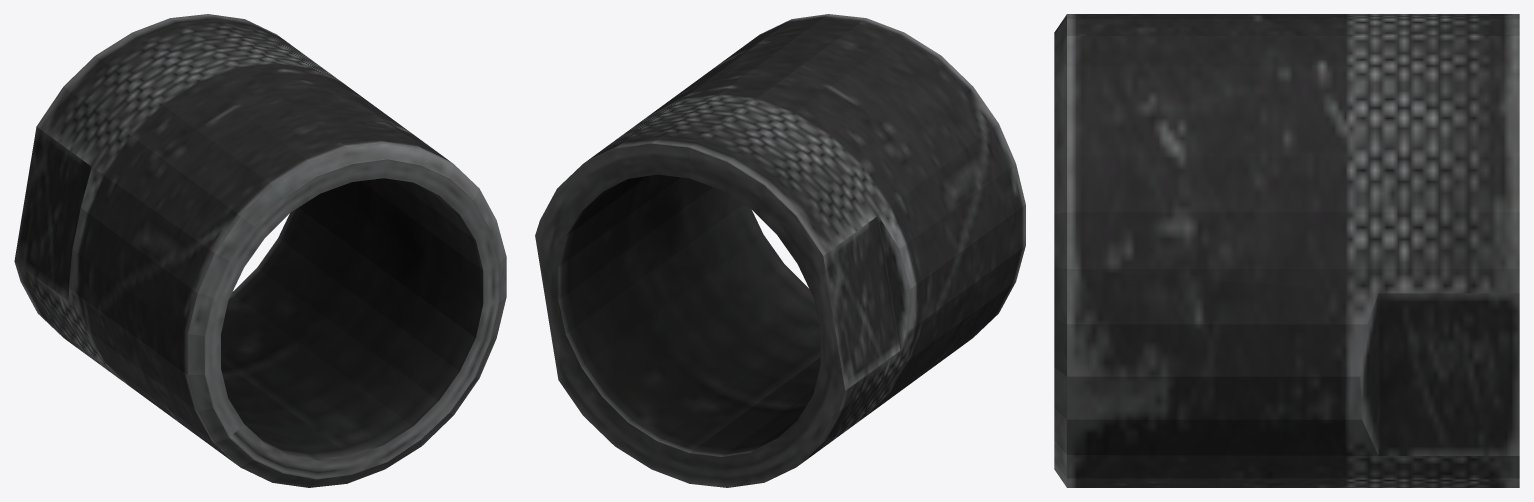
3 views of the same model, side by side, from view 1: azimuth 30°, elevation 25°; view 2: azimuth 150°, elevation 25°; view 3: azimuth 270°, elevation 25° (orthographic). The views are drawn at different scales.
Visible parts, largest first — view 1: TW_576167ab2459773cad038c43_PZ_Import; view 2: TW_576167ab2459773cad038c43_PZ_Import; view 3: TW_576167ab2459773cad038c43_PZ_Import.
Part boxes in pixels (left/top/right/bottom): TW_576167ab2459773cad038c43_PZ_Import: left=14, top=14, right=506, bottom=487; TW_576167ab2459773cad038c43_PZ_Import: left=535, top=14, right=1025, bottom=487; TW_576167ab2459773cad038c43_PZ_Import: left=1054, top=14, right=1519, bottom=487.
Bounding box in the file's own units: 0.015 × 0.0149 × 0.0151.
Materials: 1 (1 with a texture image).
